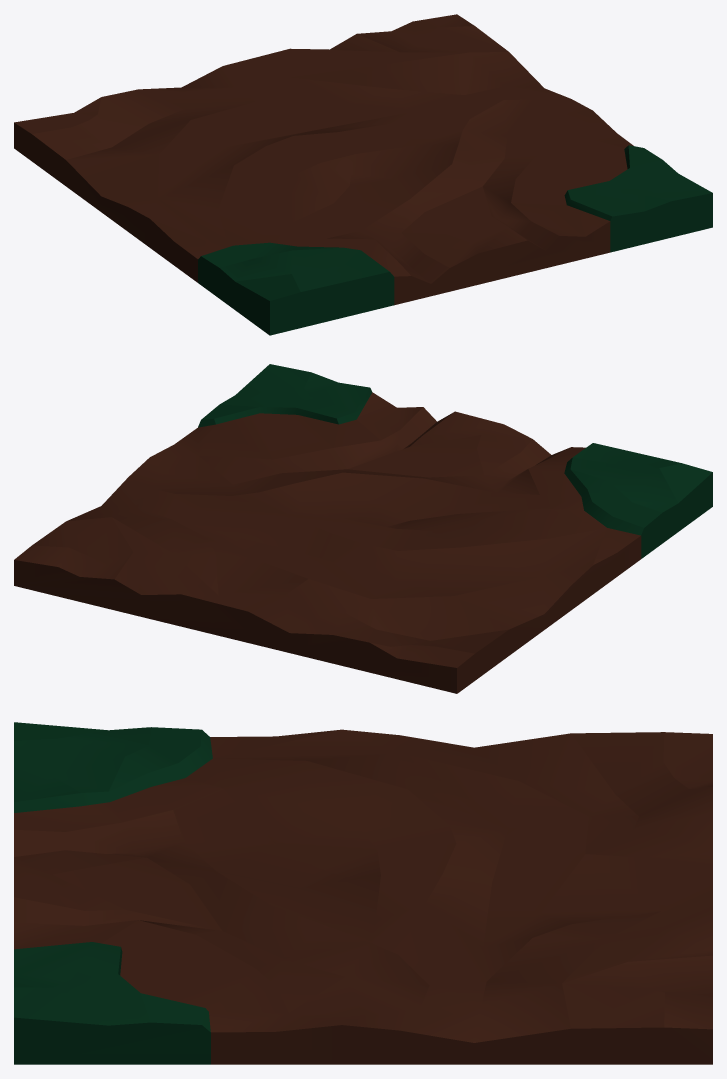
File: Ground_Road_Entrance_B.fbx
The picture shows the model from 3 angles, top to bottom: view 1: azimuth 30°, elevation 25°; view 2: azimuth 150°, elevation 25°; view 3: azimuth 270°, elevation 25°; orthographic projection. The views are drawn at different scales.
Visible parts, largest first — view 1: Ground_Road_Entrance_B; view 2: Ground_Road_Entrance_B; view 3: Ground_Road_Entrance_B.
Part boxes in pixels (x1,y1,x2,y2): Ground_Road_Entrance_B: (14, 14, 712, 335); Ground_Road_Entrance_B: (14, 364, 712, 693); Ground_Road_Entrance_B: (14, 722, 712, 1064).
Size of the model in its own units: 147 by 12.96 by 147.
